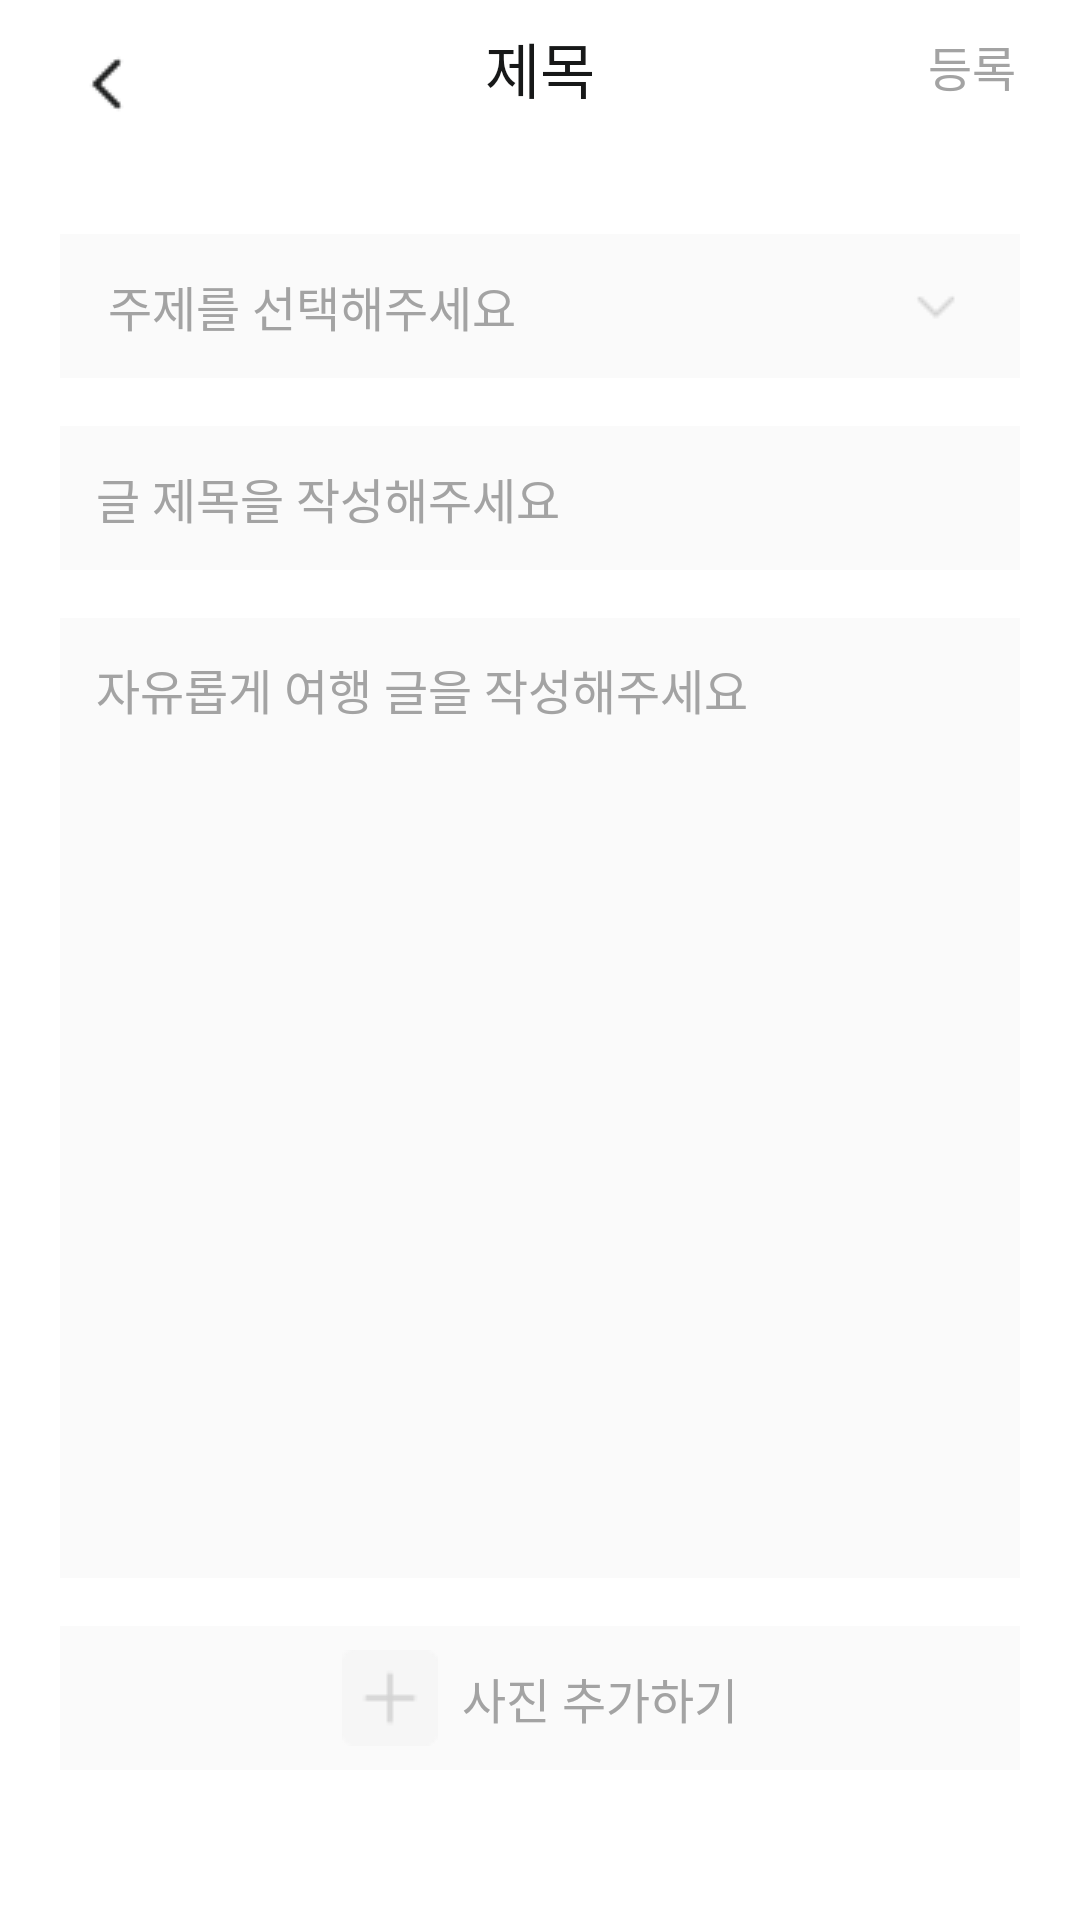

Locate icon controls on the screen. Image size 1080 x 1920, boxes as (x1, y1, x2, y2).
arrow back: (92, 59, 121, 109)
